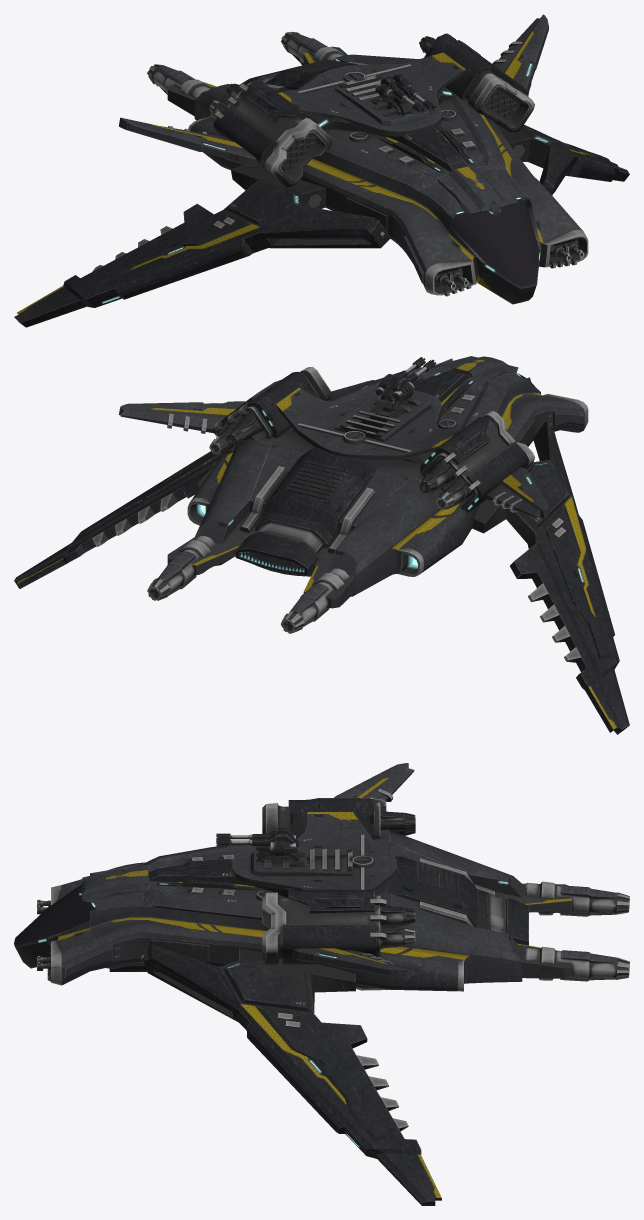
3 views of the same model, one above another, from view 1: azimuth 30°, elevation 25°; view 2: azimuth 150°, elevation 25°; view 3: azimuth 270°, elevation 25° (orthographic).
Parts seen in each view (by area): view 1: Spaceship_02_2_0, Spaceship_02_1_0; view 2: Spaceship_02_1_0, Spaceship_02_2_0; view 3: Spaceship_02_2_0, Spaceship_02_1_0.
Boxes of the visible parts, x1,y1,x2,y2 form: Spaceship_02_2_0: [119, 14, 588, 304]; Spaceship_02_1_0: [14, 34, 629, 327]; Spaceship_02_1_0: [14, 357, 629, 734]; Spaceship_02_2_0: [119, 356, 588, 633]; Spaceship_02_2_0: [14, 763, 629, 991]; Spaceship_02_1_0: [37, 797, 528, 1205].
Bounding box in the file's own units: 24.72 × 8.85 × 21.58.
Materials: 2 (2 with a texture image).
